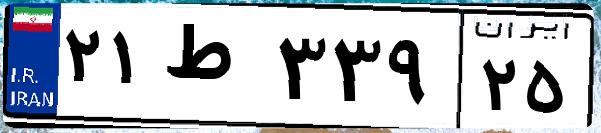1: (110, 28, 158, 98)
2: (57, 26, 110, 100), (475, 38, 525, 113)
3: (270, 28, 330, 110), (330, 28, 385, 110)
5: (525, 38, 570, 115)
9: (385, 28, 445, 110)
ط: (158, 20, 270, 120)
